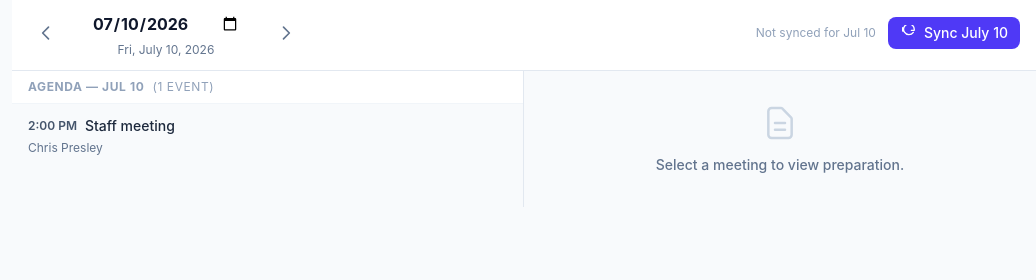
Test: MeetingsView › manager-standup prep renders expected sections
Click the heading "Staff meeting".
click(130, 126)  # box [85,116,175,136]
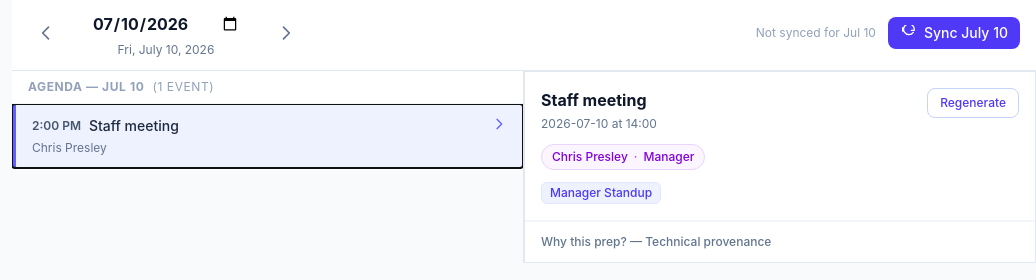
Expected: the text "Manager Standup" is shown, [541,182,661,204]
Expected: the text "Manager" is shown, [644,149,694,165]
